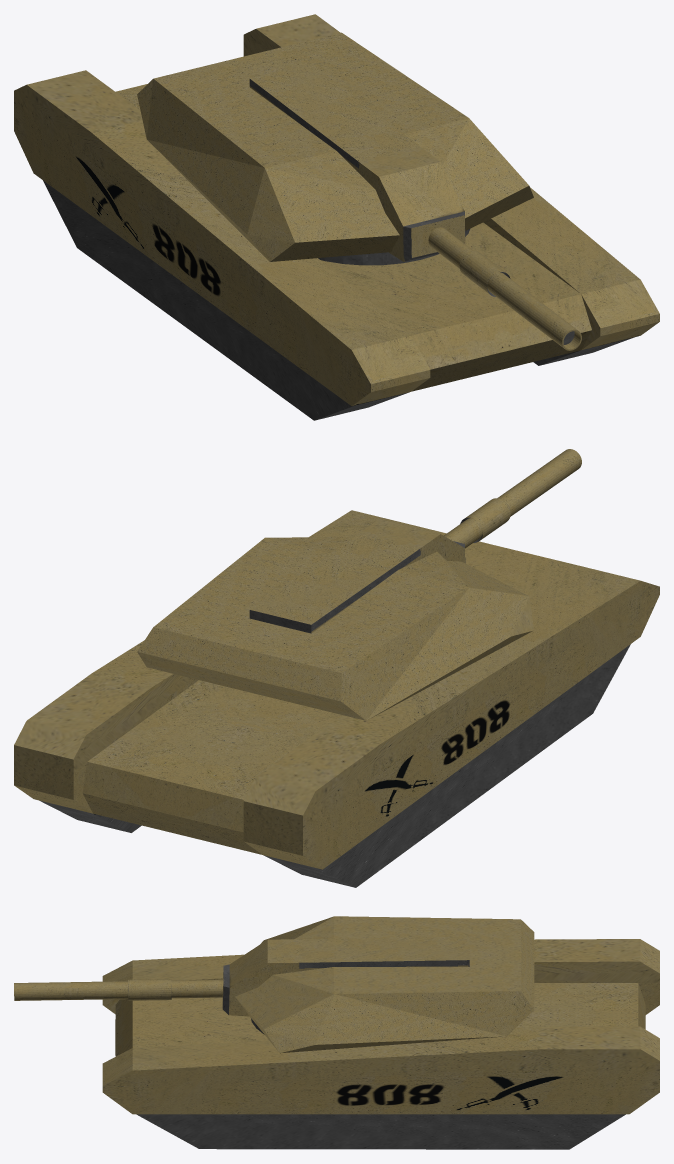
File: Abrams tank import.fbx
3 renders of one model, top to bottom at view 1: azimuth 30°, elevation 25°; view 2: azimuth 150°, elevation 25°; view 3: azimuth 270°, elevation 25°, orthographic. The views are drawn at different scales.
Visible parts, largest first — view 1: Корпус, Видимая часть башни, Орудие, Ствол, Поворотный механизм; view 2: Корпус, Видимая часть башни, Орудие, Ствол; view 3: Корпус, Видимая часть башни, Орудие, Ствол.
Boxes of the visible parts, x1,y1,x2,y2 form: Корпус: (14,14,659,420); Видимая часть башни: (137,32,533,261); Орудие: (249,63,465,261); Ствол: (428,227,581,350); Поворотный механизм: (318,229,469,265); Корпус: (14,510,659,887); Видимая часть башни: (137,536,533,720); Орудие: (249,519,465,633); Ствол: (444,449,581,548); Корпус: (102,939,659,1149); Видимая часть башни: (235,916,534,1053); Орудие: (222,936,469,1016); Ствол: (14,979,223,1000).
Size of the model in its own units: 1078 by 677 by 2673.
1 material, 1 textured.
